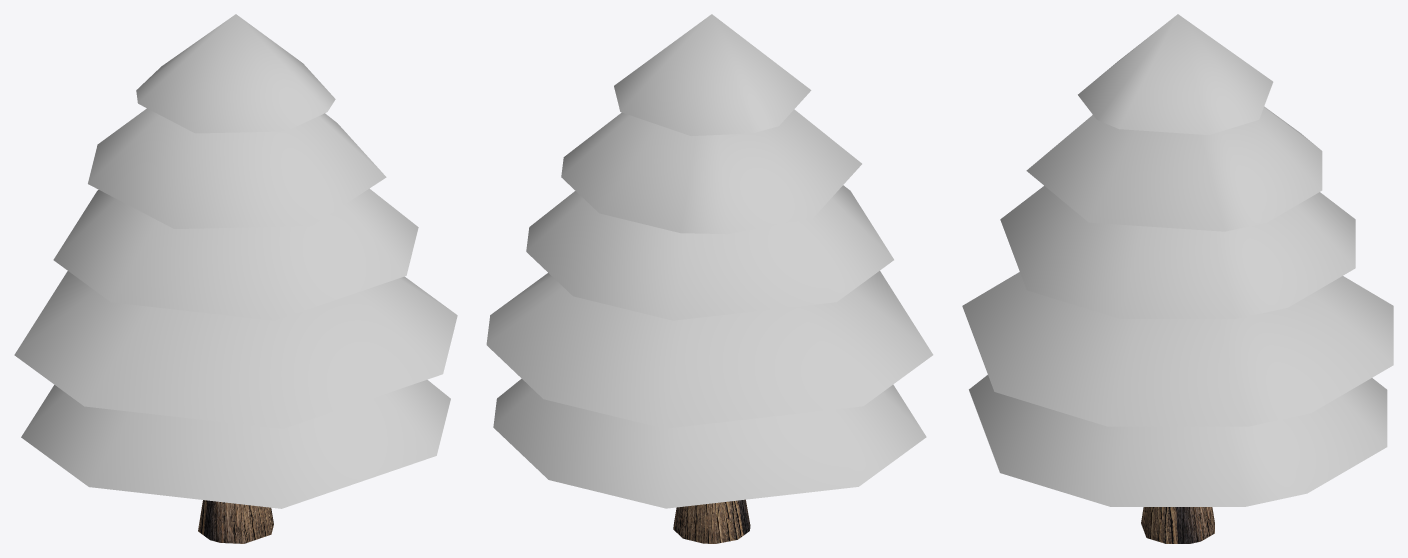
The model's file is елка_2.fbx.
3 renders of one model, left to right at view 1: azimuth 30°, elevation 25°; view 2: azimuth 150°, elevation 25°; view 3: azimuth 270°, elevation 25°, orthographic.
Visible parts, largest first — view 1: pCone4, pCone5, pCone3, pCone2, pCone1, pCylinder1; view 2: pCone4, pCone5, pCone3, pCone2, pCone1, pCylinder1; view 3: pCone4, pCone5, pCone3, pCone2, pCone1, pCylinder1.
Part boxes in pixels (left/top/right/bottom): pCone4: left=14, top=271, right=457, bottom=428; pCone5: left=21, top=379, right=450, bottom=508; pCone3: left=53, top=188, right=418, bottom=320; pCone2: left=88, top=108, right=386, bottom=228; pCone1: left=136, top=14, right=335, bottom=133; pCylinder1: left=198, top=500, right=273, bottom=543; pCone4: left=486, top=271, right=933, bottom=428; pCone5: left=493, top=378, right=926, bottom=508; pCone3: left=526, top=185, right=893, bottom=320; pCone2: left=561, top=109, right=861, bottom=234; pCone1: left=614, top=14, right=811, bottom=135; pCylinder1: left=673, top=499, right=750, bottom=543; pCone4: left=962, top=272, right=1393, bottom=426; pCone5: left=969, top=375, right=1387, bottom=506; pCone3: left=1000, top=186, right=1355, bottom=318; pCone2: left=1026, top=106, right=1322, bottom=231; pCone1: left=1078, top=14, right=1273, bottom=134; pCylinder1: left=1141, top=507, right=1214, bottom=543.
Bounding box in the file's own units: 11.09 × 14.58 × 11.09.
